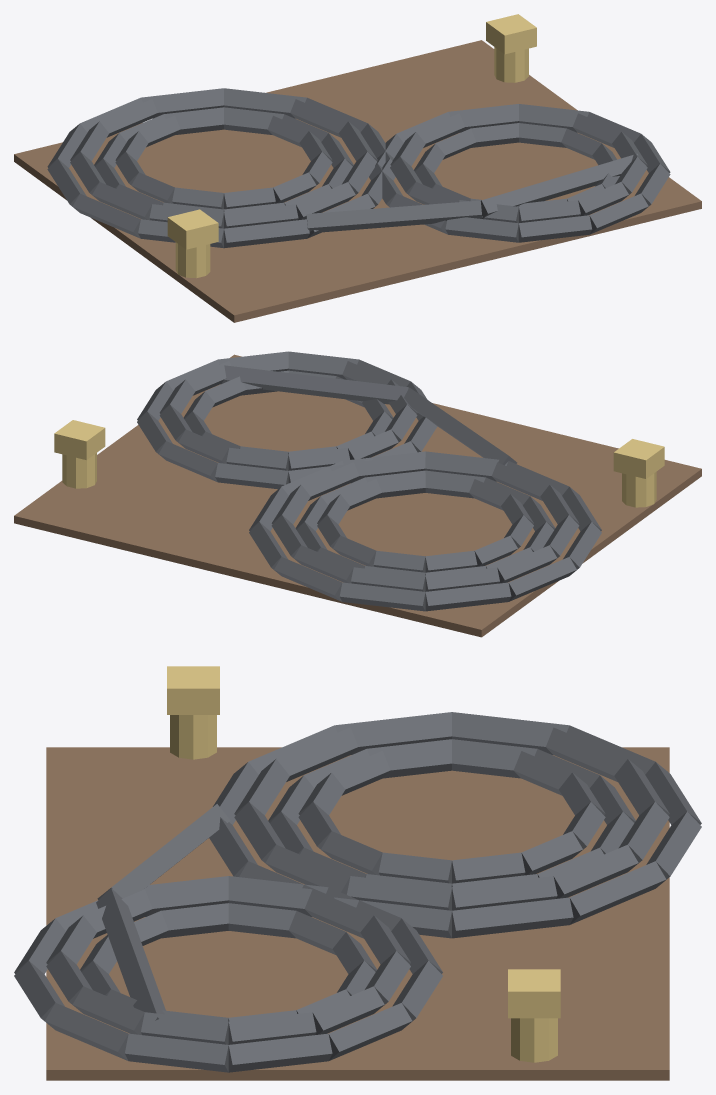
Rendered from hot-air-balloon-festival-balloon-fuel-hose-run-4c5f2f6b__38479.glb.
The picture shows the model from 3 angles, top to bottom: view 1: azimuth 30°, elevation 25°; view 2: azimuth 150°, elevation 25°; view 3: azimuth 270°, elevation 25°; orthographic projection. The views are drawn at different scales.
Parts seen in each view (by area): view 1: balloon-fuel-hose-run-charcoal, balloon-fuel-hose-run-leather, balloon-fuel-hose-run-brass; view 2: balloon-fuel-hose-run-charcoal, balloon-fuel-hose-run-leather, balloon-fuel-hose-run-brass; view 3: balloon-fuel-hose-run-charcoal, balloon-fuel-hose-run-leather, balloon-fuel-hose-run-brass.
Part boxes in pixels (x1=…): balloon-fuel-hose-run-charcoal: x1=47, y1=88, x2=670, y2=248; balloon-fuel-hose-run-leather: x1=14, y1=40, x2=701, y2=322; balloon-fuel-hose-run-brass: x1=167, y1=14, x2=536, y2=278; balloon-fuel-hose-run-charcoal: x1=137, y1=351, x2=601, y2=611; balloon-fuel-hose-run-leather: x1=14, y1=354, x2=701, y2=637; balloon-fuel-hose-run-brass: x1=54, y1=420, x2=664, y2=507; balloon-fuel-hose-run-charcoal: x1=14, y1=712, x2=701, y2=1072; balloon-fuel-hose-run-leather: x1=46, y1=747, x2=669, y2=1080; balloon-fuel-hose-run-brass: x1=167, y1=666, x2=560, y2=1062.
Bounding box in the file's own units: 1.39 × 0.165 × 1.17.
